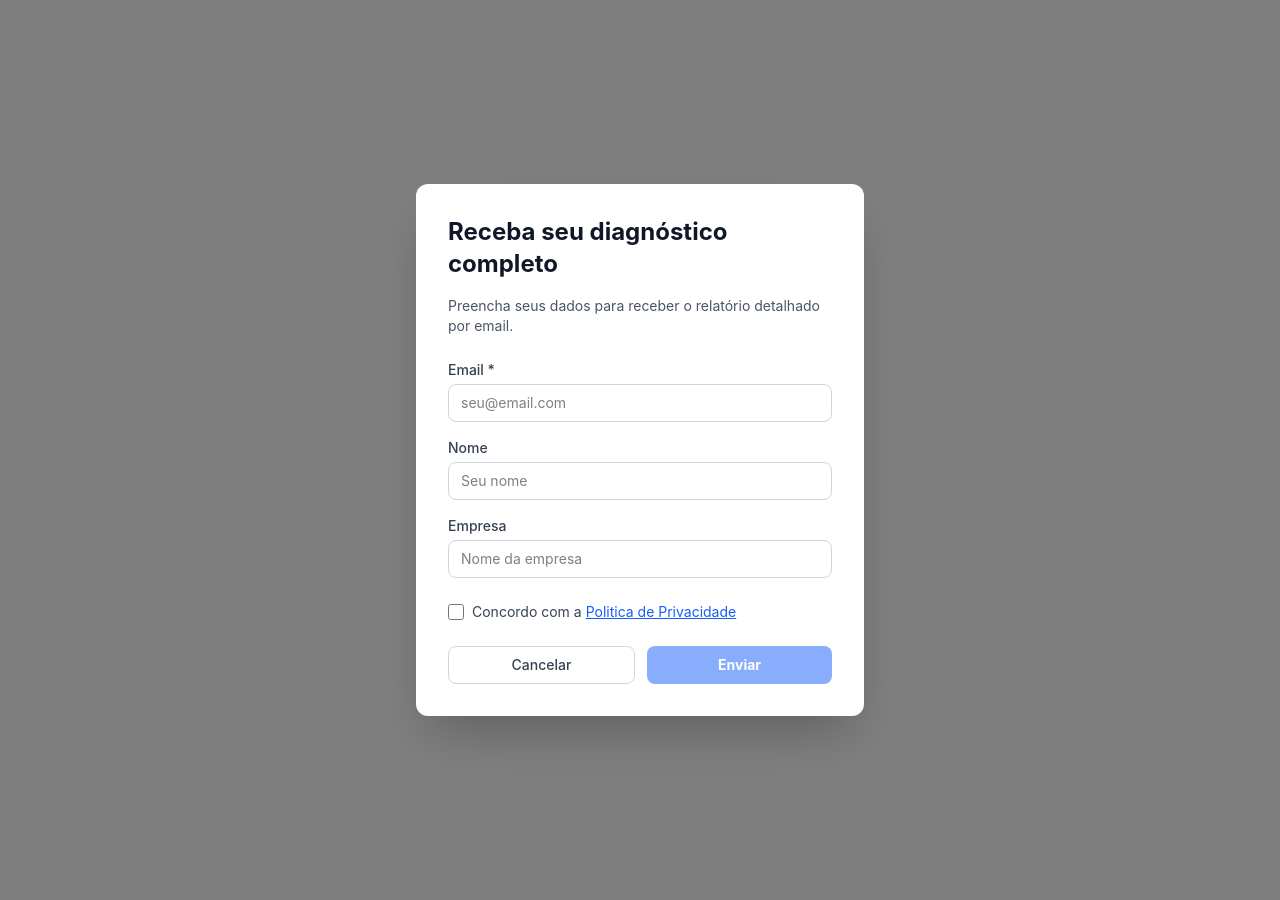
Test: LeadCaptureModal — LGPD consent › submit button is enabled when consent checkbox is checked
The image size is (1280, 900).
What coordinates should you click on to do the following:
click the checkbox labelled "Concordo com a Politica de Privacidade"
I would click on:
 (456, 612)
Its box is [448, 604, 464, 620].
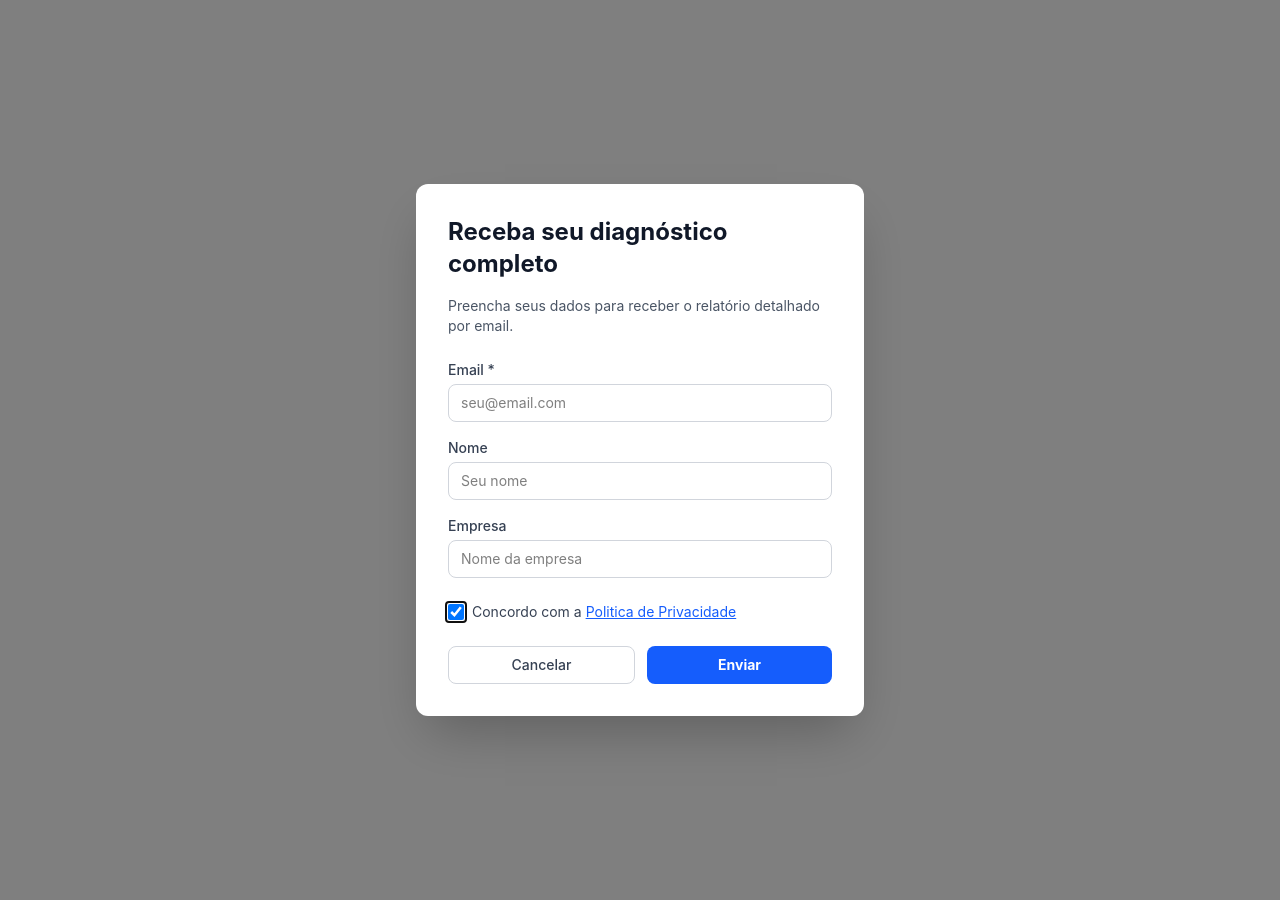
expect the button "Enviar" is enabled: met, box [647, 646, 832, 684]
